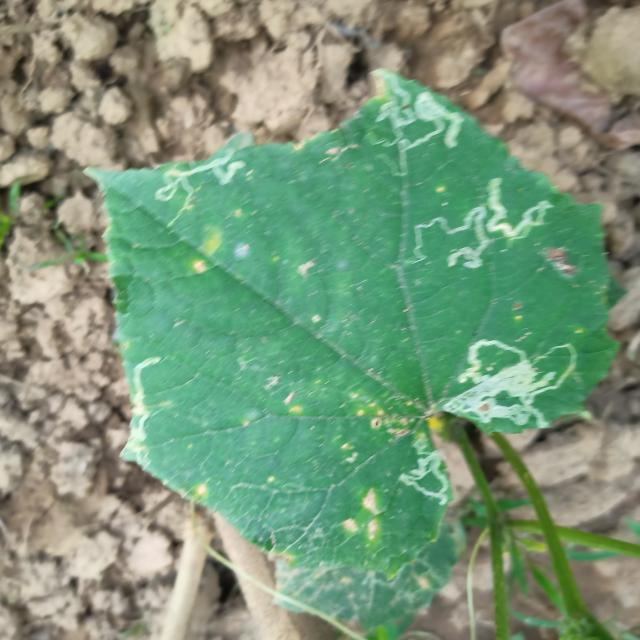disease_cucumber: (340, 488, 385, 544), (188, 226, 226, 280)
